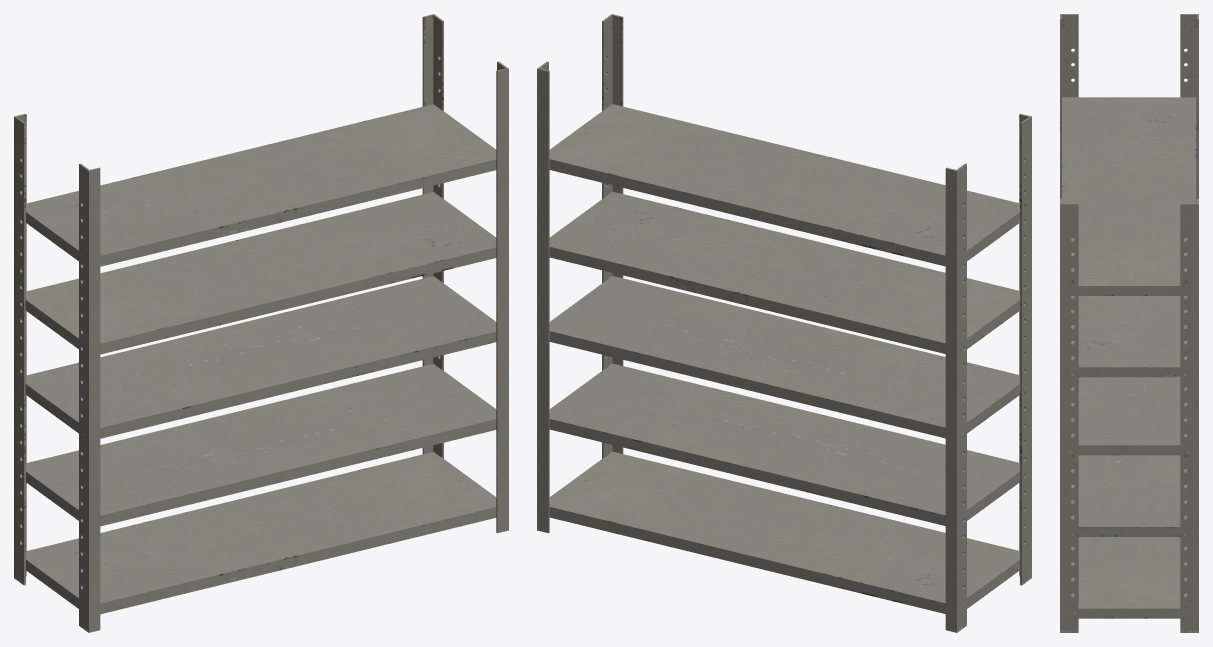
The model's file is 049_Ironshelf.fbx.
The picture shows the model from 3 angles, left to right: view 1: azimuth 30°, elevation 25°; view 2: azimuth 150°, elevation 25°; view 3: azimuth 270°, elevation 25°; orthographic projection. The views are drawn at different scales.
Visible parts, largest first — view 1: LOD_1_Group_0_Sub_1__sm30_049_IronShelf01B_A_Mat; view 2: LOD_1_Group_0_Sub_1__sm30_049_IronShelf01B_A_Mat; view 3: LOD_1_Group_0_Sub_1__sm30_049_IronShelf01B_A_Mat.
Boxes of the visible parts, x1,y1,x2,y2 form: LOD_1_Group_0_Sub_1__sm30_049_IronShelf01B_A_Mat: (14,14,508,632); LOD_1_Group_0_Sub_1__sm30_049_IronShelf01B_A_Mat: (537,14,1031,632); LOD_1_Group_0_Sub_1__sm30_049_IronShelf01B_A_Mat: (1060,14,1198,632).
Size of the model in its own units: 2.57 by 2.7 by 0.7922.
